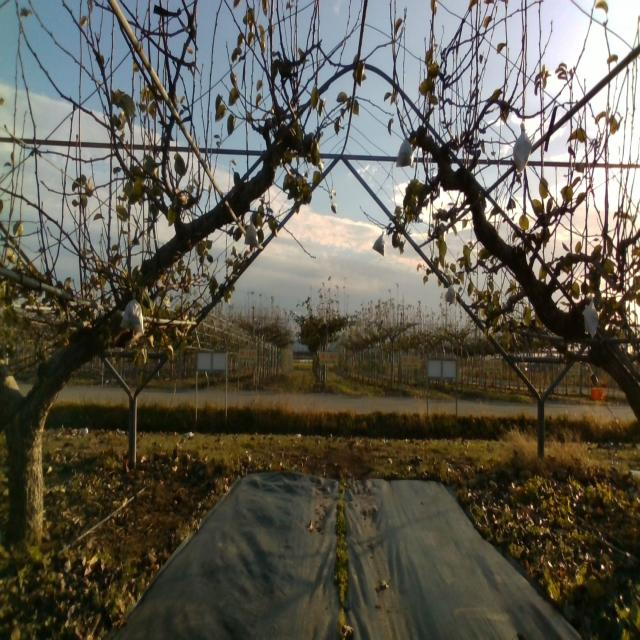pearbags: (120, 294, 144, 335), (513, 124, 533, 171), (582, 294, 602, 336), (394, 131, 414, 168), (244, 221, 258, 247), (443, 284, 458, 308), (371, 231, 385, 255)
